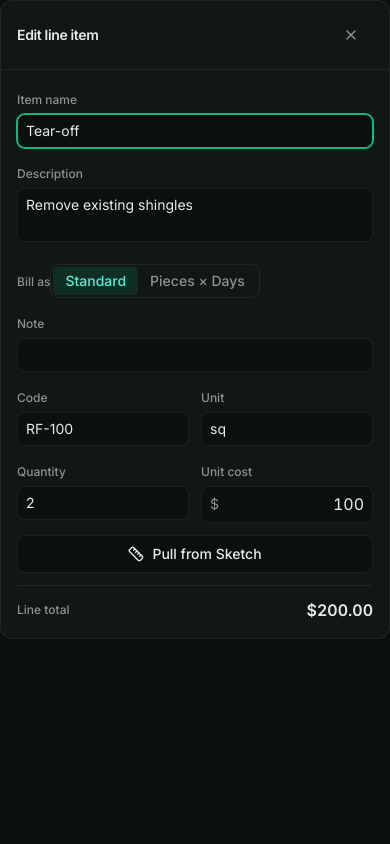
Test: LineItemEditorPanel — equipment pricing (#682) › Sketch source (#861) › previews the chosen measurement and freezes it into quantity on Pull
Click the button with test id "sketch-pull-button" at (195, 554), box left=17, top=535, right=373, bottom=573
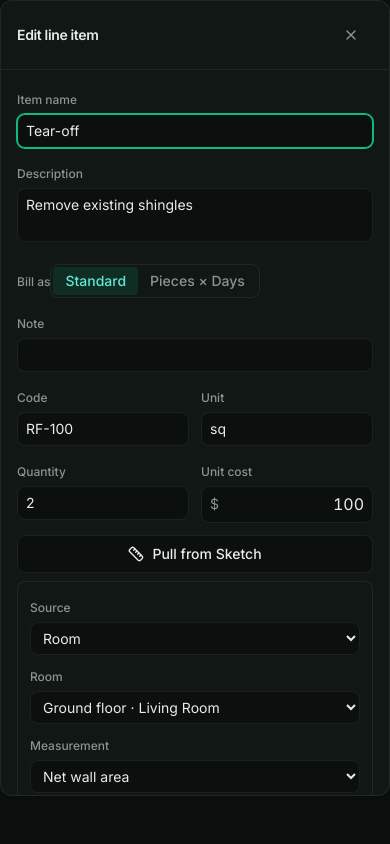
Expected: the dropdown with test id "sketch-picker-room" is shown, left=30, top=691, right=360, bottom=724
Note: Switch the measurement kind — the preview retargets to floor area (12).
Select "Floor area" in the dropdown with test id "sketch-picker-kind" at (195, 776), box left=30, top=760, right=360, bottom=793
(page scrolled)
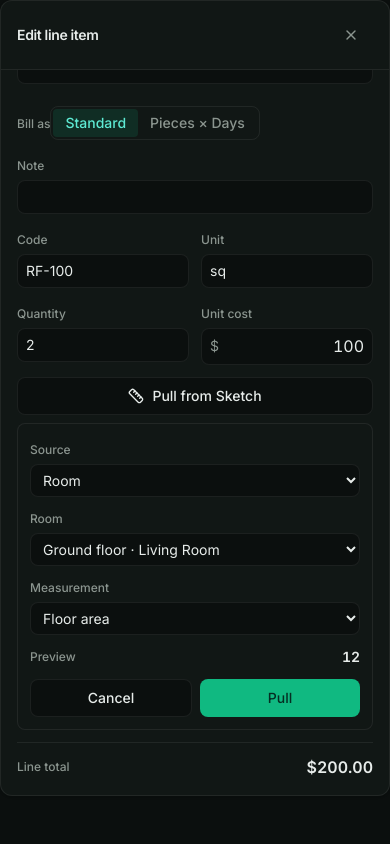
Expected: the text with test id "sketch-picker-preview" reads "12", left=342, top=648, right=360, bottom=665
Click the button with test id "sketch-picker-pull" at (280, 698), box left=200, top=679, right=360, bottom=717
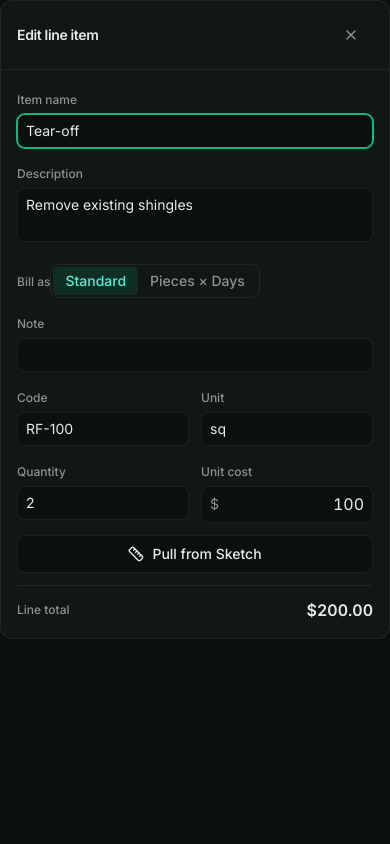
Expected: the dropdown with test id "sketch-picker-room" is gone
